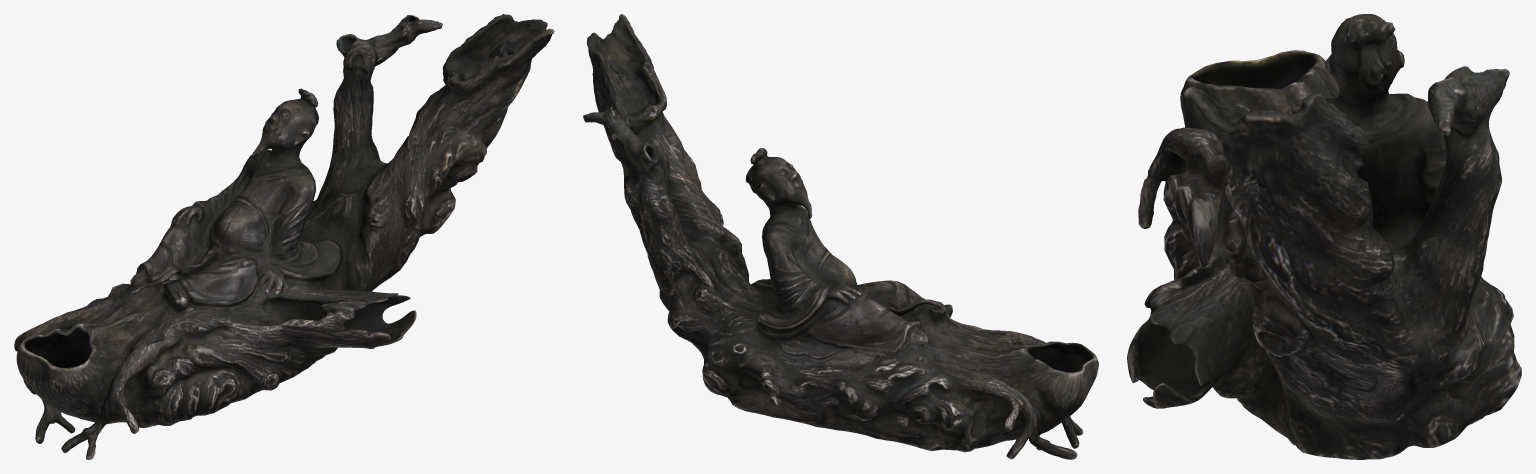
The model's file is cup.glb.
The picture shows the model from 3 angles, left to right: view 1: azimuth 30°, elevation 25°; view 2: azimuth 150°, elevation 25°; view 3: azimuth 270°, elevation 25°; orthographic projection. The views are drawn at different scales.
Visible parts, largest first — view 1: 1829至正乙酉朱碧山造银槎杯; view 2: 1829至正乙酉朱碧山造银槎杯; view 3: 1829至正乙酉朱碧山造银槎杯.
Boxes of the visible parts, <box> form: 1829至正乙酉朱碧山造银槎杯: <box>14,14,554,459</box>; 1829至正乙酉朱碧山造银槎杯: <box>583,14,1098,459</box>; 1829至正乙酉朱碧山造银槎杯: <box>1127,14,1521,459</box>.
Size of the model in its own units: 67.45 by 39.82 by 25.99.
Materials: 1 (1 with a texture image).
